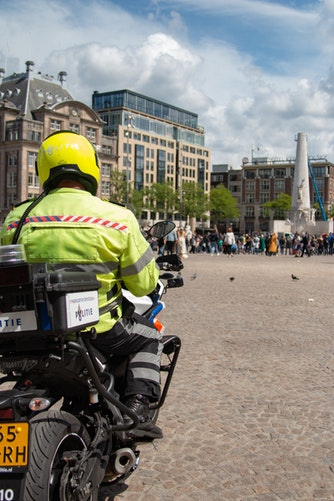helmet: (27, 124, 111, 193)
